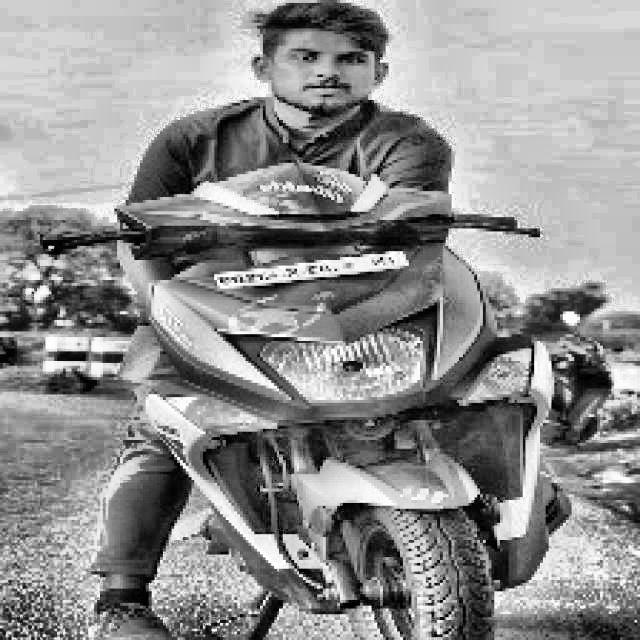motorcycle: (46, 166, 584, 640)
